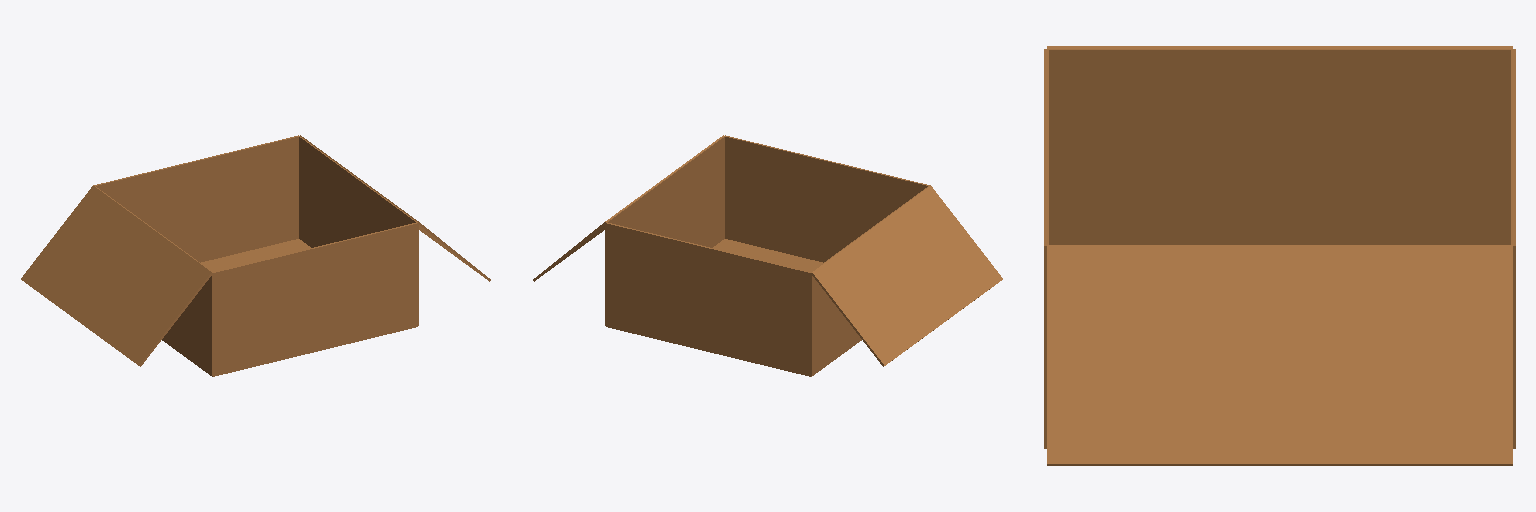
robot.urdf — cup.urdf:
<?xml version="1.0" ?>
<robot name="cup.urdf" xmlns:xacro="http://www.ros.org/wiki/xacro">
  <link name="bottom">
    <visual>
      <geometry>
        <box size ="1 1 0.01"/>
      </geometry>
      <material name="brown">
        <color rgba ="0.71 0.51 0.32 1"/>
      </material>
    </visual>
    <collision>
      <geometry>
        <box size ="1 1 0.01"/>
      </geometry>
      <material name="brown"/>
    </collision>
  </link>
  <joint name="side1" type="fixed">
    <parent link="bottom"/>
    <child link="side1"/>
    <origin rpy="0 0 0" xyz="0.5 0 0.24"/>
  </joint>
  <link name="side1">
    <visual>
      <geometry>
        <box size ="0.01 1 0.48"/>
      </geometry>
      <material name="brown"/>
    </visual>
    <collision>
      <geometry>
        <box size ="0.01 1 0.48"/>
      </geometry>
      <material name="brown"/>
    </collision>
  </link>
  <joint name="top1" type="revolute">
    <parent link="side1"/>
    <child link="top1"/>
    <origin rpy="0 -0.785 0" xyz="0 0 0.24"/>
    <axis xyz= "0 -1 0"/>
    <limit lower="0" upper="3.927" effort="1" velocity="0.01"/>
  </joint>
  <link name="top1">
    <visual>
      <geometry>
        <box size ="0.01 1 0.5"/>
      </geometry>
      <material name="brown"/>
      <origin xyz="0 0 -0.25"/>
    </visual>
    <collision>
      <geometry>
        <box size ="0.01 1 0.5"/>
      </geometry>
      <material name="brown"/>
      <origin xyz="0 0 -0.25"/>
    </collision>
  </link>
  <joint name="side2" type="fixed">
    <parent link="bottom"/>
    <child link="side2"/>
    <origin rpy="0 0 0" xyz="-0.5 0 0.24"/>
  </joint>
  <link name="side2">
    <visual>
      <geometry>
        <box size ="0.01 1 0.48"/>
      </geometry>
      <material name="brown"/>
    </visual>
    <collision>
      <geometry>
        <box size ="0.01 1 0.48"/>
      </geometry>
      <material name="brown"/>
    </collision>
  </link>
  <joint name="top2" type="revolute">
    <parent link="side2"/>
    <child link="top2"/>
    <origin rpy="0 0.785 0" xyz="0 0 0.24"/>
    <axis xyz= "0 1 0"/>
    <limit lower="0" upper="3.927" effort="1" velocity="0.01"/>
  </joint>
  <link name="top2">
    <visual>
      <geometry>
        <box size ="0.01 1 0.5"/>
      </geometry>
      <material name="brown"/>
      <origin xyz="0 0 -0.25"/>
    </visual>
    <collision>
      <geometry>
        <box size ="0.01 1 0.5"/>
      </geometry>
      <origin xyz="0 0 -0.25"/>
      <material name="brown"/>
    </collision>
  </link>
  <joint name="side3" type="fixed">
    <parent link="bottom"/>
    <child link="side3"/>
    <origin rpy="0 0 0" xyz="0 0.5 0.24"/>
  </joint>
  <link name="side3">
    <visual>
      <geometry>
        <box size ="1 0.01 0.48"/>
      </geometry>
      <material name="brown"/>
    </visual>
    <collision>
      <geometry>
        <box size ="1 0.01 0.48"/>
      </geometry>
      <material name="brown"/>
    </collision>
  </link>
  <joint name="side4" type="fixed">
    <parent link="bottom"/>
    <child link="side4"/>
    <origin rpy="0 0 0" xyz="0 -0.5 0.24"/>
  </joint>
  <link name="side4">
    <visual>
      <geometry>
        <box size ="1 0.01 0.48"/>
      </geometry>
      <material name="brown"/>
    </visual>
    <collision>
      <geometry>
        <box size ="1 0.01 0.48"/>
      </geometry>
      <material name="brown"/>
    </collision>
  </link>
</robot>

--- Render facts (derived) ---
Views: 3 orthographic renders of the robot side by side, from view 1: azimuth 30°, elevation 25°; view 2: azimuth 150°, elevation 25°; view 3: azimuth 270°, elevation 25°.
Model cup.urdf with 7 links and 6 joints (2 revolute, 4 fixed), rooted at bottom, posed every joint at zero.
Visible links, largest first — view 1: side4, top2, side3, side1, side2, bottom, top1; view 2: side3, top2, side4, side1, side2, bottom, top1; view 3: top1, side2, side3, side4, top2.
Boxes of the visible links, x1,y1,x2,y2 form: side4: [213, 222, 418, 375]; top2: [21, 186, 212, 366]; side3: [93, 135, 298, 262]; side1: [299, 136, 417, 247]; side2: [95, 186, 212, 375]; bottom: [162, 239, 415, 376]; top1: [300, 135, 490, 281]; side3: [605, 222, 810, 375]; top2: [812, 186, 1002, 366]; side4: [725, 135, 930, 262]; side1: [607, 136, 724, 247]; side2: [811, 186, 928, 375]; bottom: [608, 239, 861, 376]; top1: [533, 135, 723, 281]; top1: [1047, 245, 1512, 465]; side2: [1047, 49, 1512, 244]; side3: [1511, 49, 1515, 448]; side4: [1044, 49, 1048, 448]; top2: [1047, 46, 1512, 48].
Size in the robot's own frame: 1.71 by 1.01 by 0.4885 metres.
Geometry: primitives only (box / cylinder / sphere), no mesh files.
